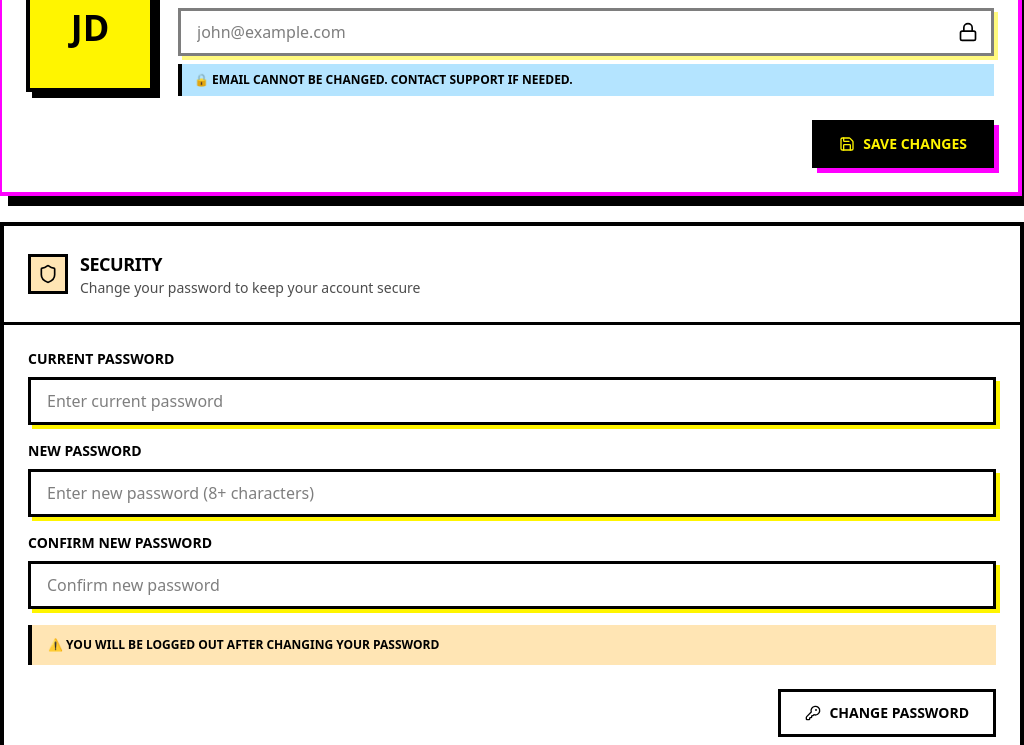
it: Profile - Functional Tests › Password Change › should validate password length (minimum 8 characters)
This screenshot has width=1024, height=745.
(page scrolled)
Type "oldPass" into the password field with placeholder "Enter current password". click: (512, 401)
box: [28,377,996,425]
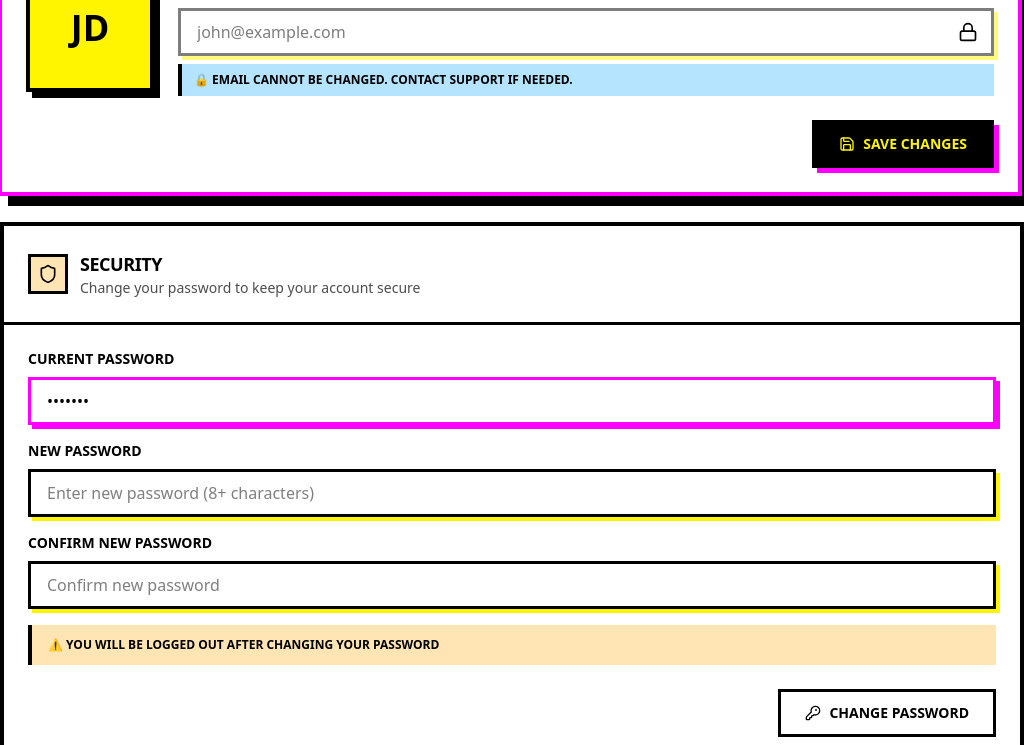
Type "short" into the password field with placeholder "Enter new password (8+ characters)". click: (512, 493)
box: [28,469,996,517]
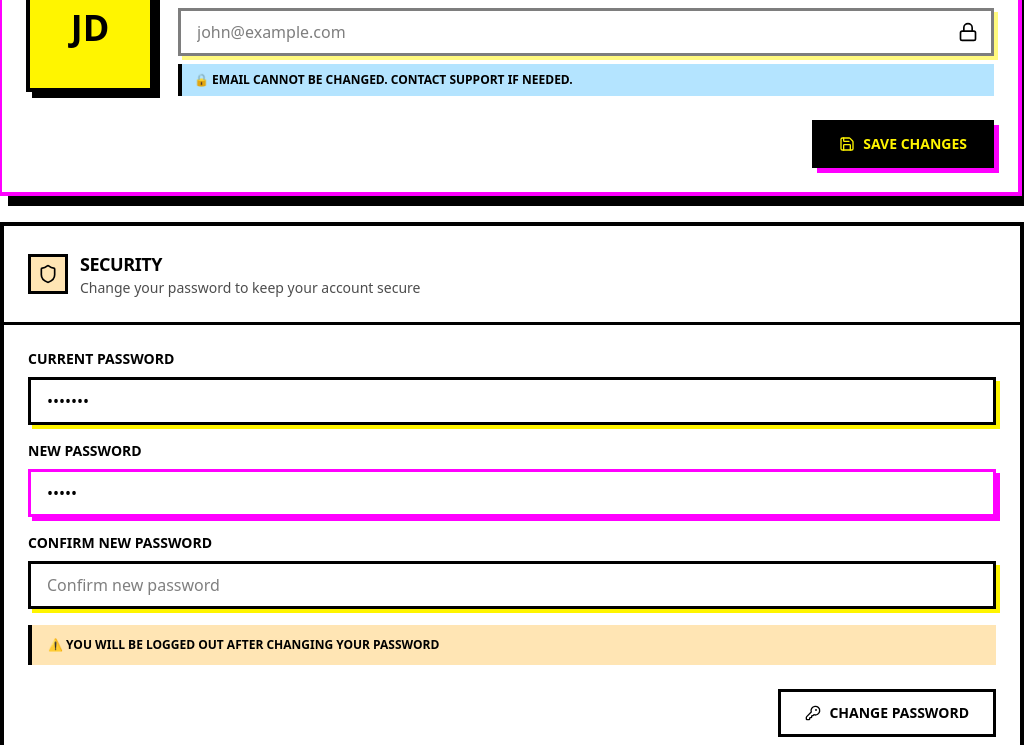
Type "short" into the password field with placeholder "Confirm new password". click: (512, 585)
box: [28,561,996,609]
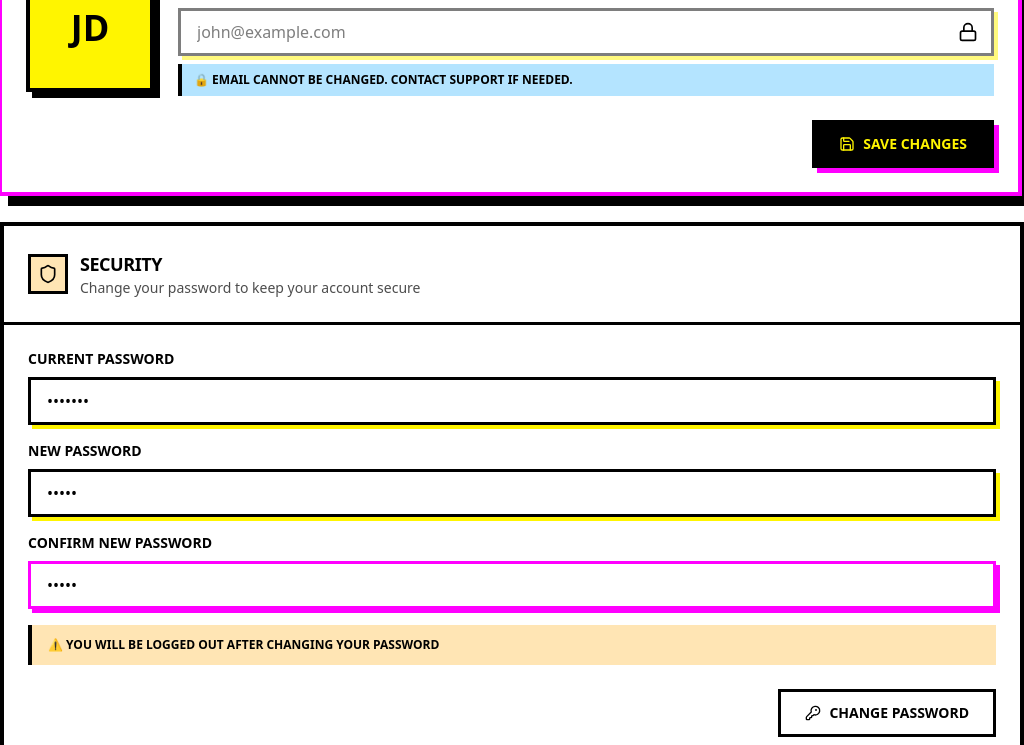
Click the button "Change Password". click: (887, 713)
box: [778,689,996,737]
(page scrolled)
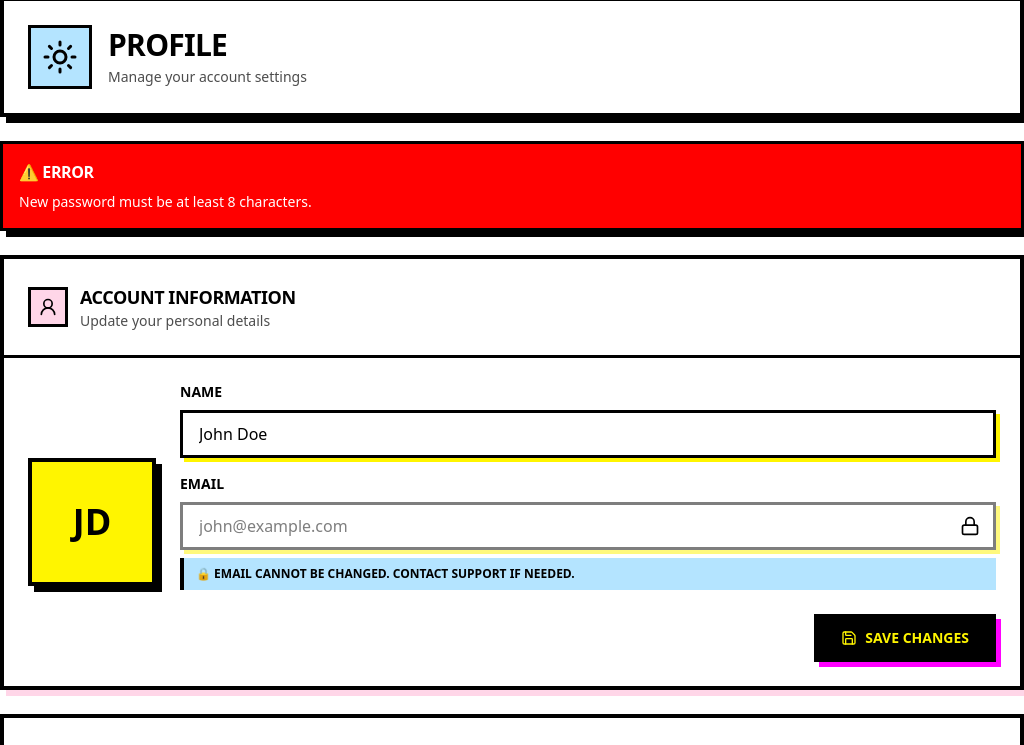
Expected: the text "New password must be at least 8 characters." is shown, [19,192,312,211]
